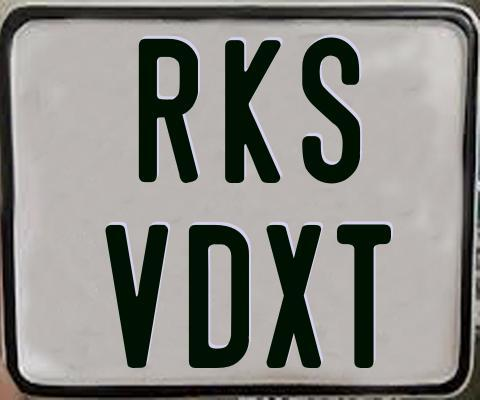D: (187, 225, 252, 369)
K: (223, 38, 283, 186)
R: (139, 39, 204, 185)
S: (299, 36, 357, 187)
T: (334, 223, 390, 369)
V: (102, 224, 170, 368)
X: (263, 222, 322, 369)
